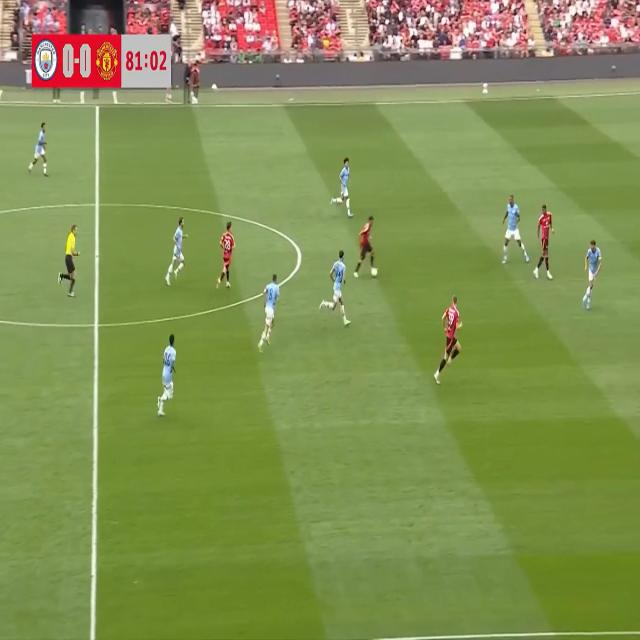ball: (369, 262, 378, 277)
players: (433, 281, 465, 392), (314, 248, 354, 326), (151, 324, 179, 422), (576, 238, 607, 325), (502, 187, 531, 275), (158, 207, 190, 285), (530, 205, 557, 294), (354, 209, 380, 284), (256, 268, 277, 358), (215, 212, 236, 296), (26, 114, 51, 182), (327, 159, 353, 218)
refree: (54, 211, 84, 310)
